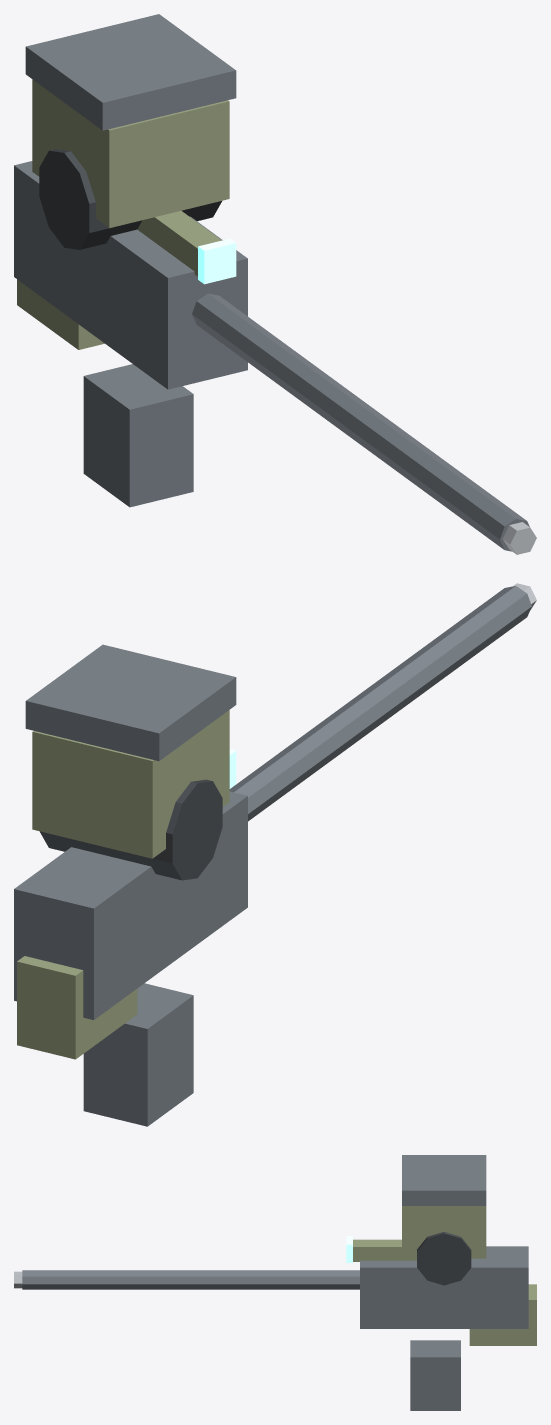
The model's file is mech-hangar-and-battle-frames-long-rifle-arm-98d634e1__26853.glb.
3 renders of one model, top to bottom at view 1: azimuth 30°, elevation 25°; view 2: azimuth 150°, elevation 25°; view 3: azimuth 270°, elevation 25°, orthographic. The views are drawn at different scales.
Visible parts, largest first — view 1: gun (×4), long-rifle-arm; view 2: gun (×2), long-rifle-arm; view 3: gun (×2), long-rifle-arm.
Part boxes in pixels (x1,y1,x2,y2): gun (×4): (14, 161, 536, 554); long-rifle-arm: (25, 14, 236, 249); gun (×2): (14, 586, 531, 1126); long-rifle-arm: (25, 644, 236, 880); gun (×2): (22, 1239, 536, 1410); long-rifle-arm: (402, 1155, 486, 1285).
Bounding box in the file's own units: 0.5 × 1.5 × 3.1.
